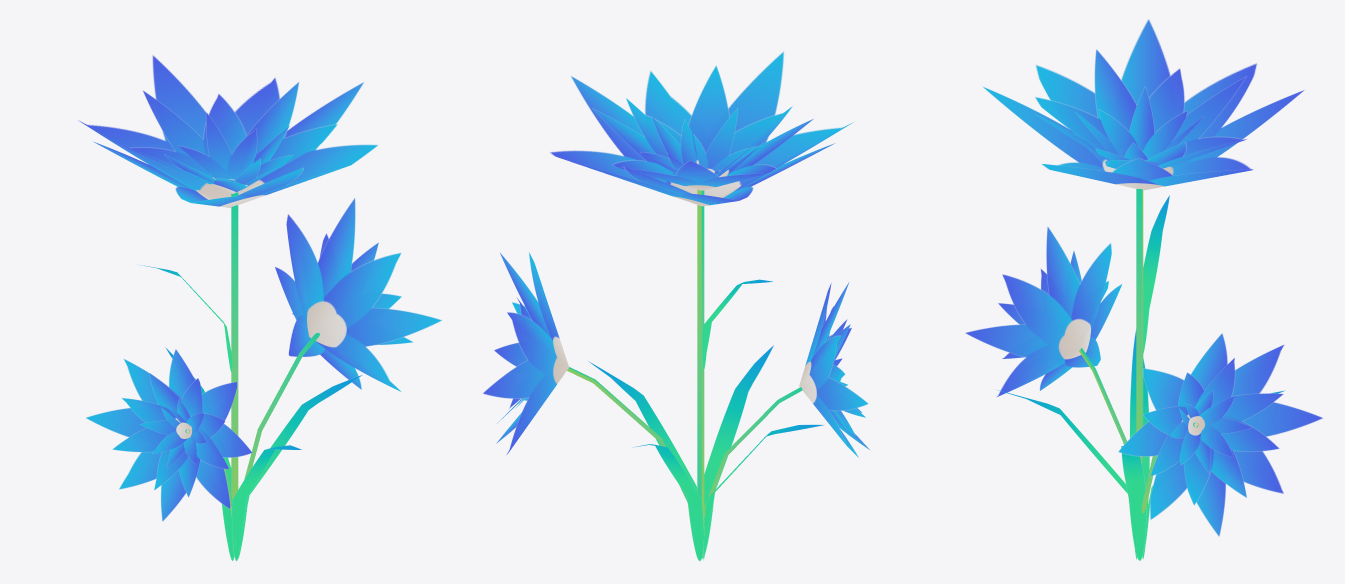
The model's file is Flowers_n02_03.glb.
3 views of the same model, side by side, from view 1: azimuth 30°, elevation 25°; view 2: azimuth 150°, elevation 25°; view 3: azimuth 270°, elevation 25° (orthographic). The views are drawn at different scales.
Parts seen in each view (by area): view 1: polySurface129; view 2: polySurface129; view 3: polySurface129.
Part boxes in pixels (box(x1,y1,x2,y2)): polySurface129: box(78, 55, 442, 561); polySurface129: box(483, 51, 870, 561); polySurface129: box(965, 19, 1323, 560).
Size of the model in its own units: 0.5201 by 0.6199 by 0.4405.
Materials: 1 (1 with a texture image).
